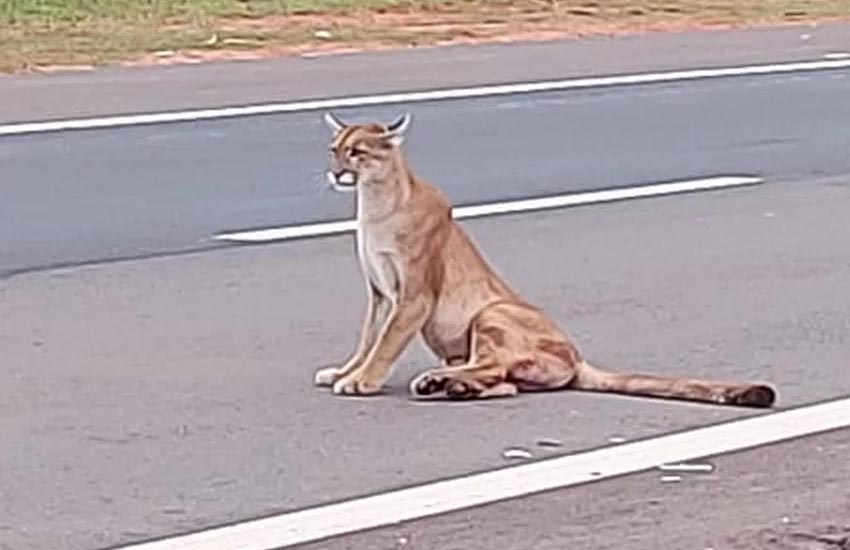OncaParda: (306, 106, 782, 413)
